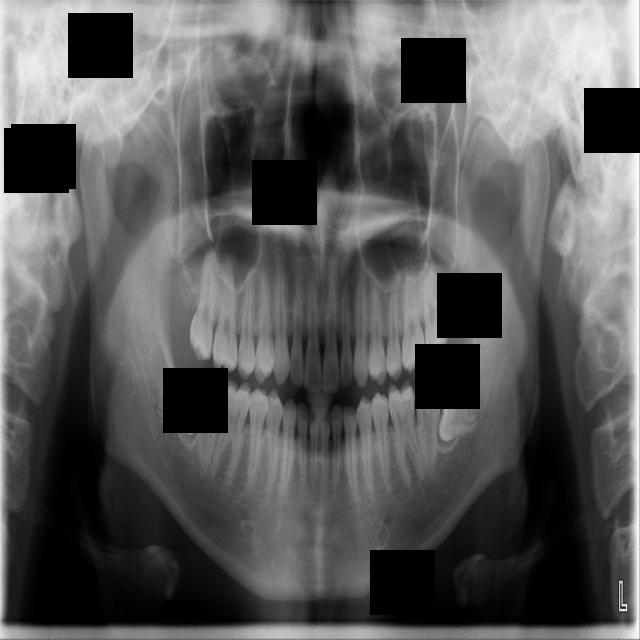52: (414, 372, 443, 415)
73: (600, 587, 612, 601)
BioHorizons Implant: (419, 270, 450, 362)
Biomet 3i Implant: (436, 381, 483, 444)
Blue Sky Bio Implant: (414, 372, 445, 470)
Caries: (188, 254, 219, 363)
Implant: (195, 371, 221, 479)
Keystone Dental Implant: (153, 373, 204, 438)
